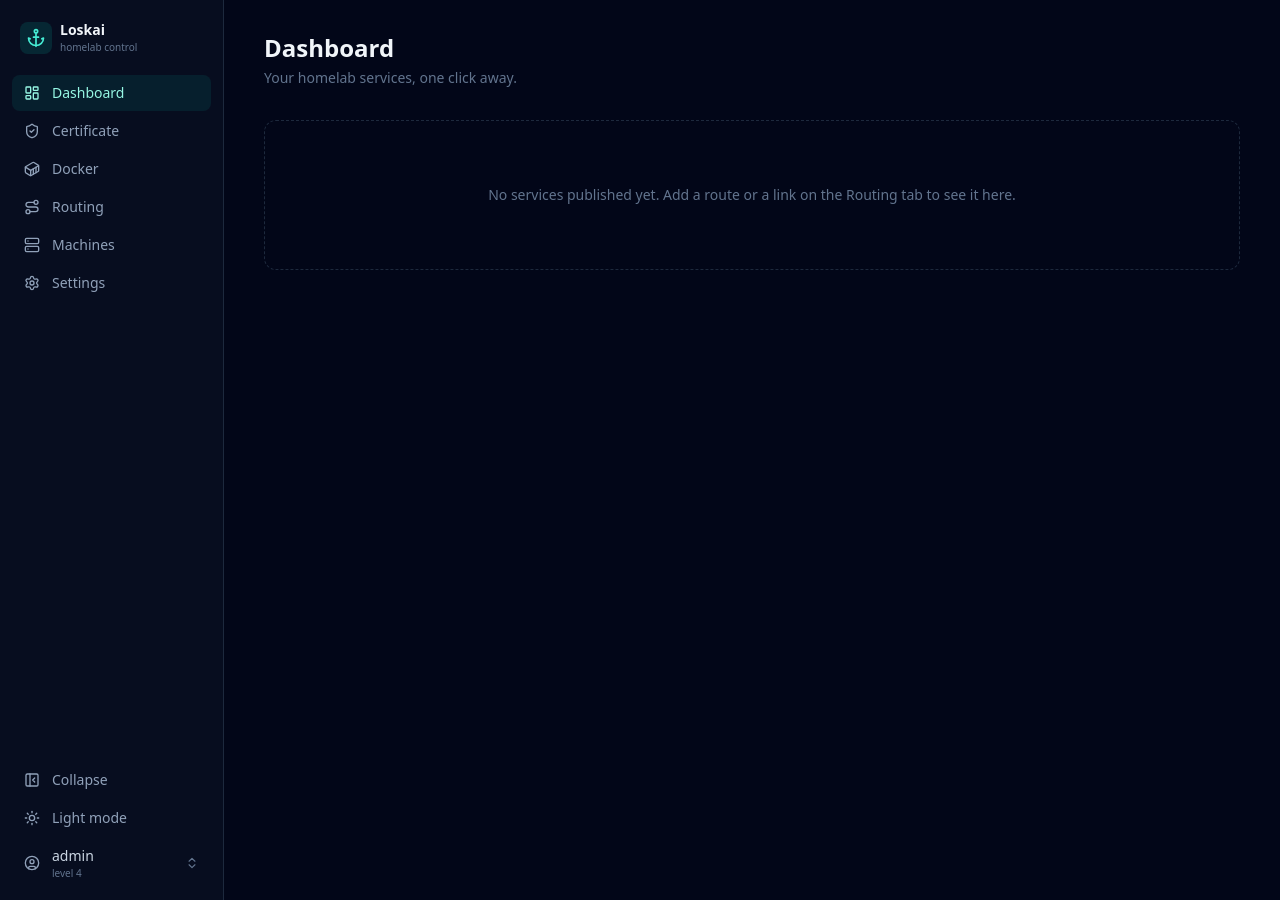
Scenario: the sidebar collapses to its icons, and stays so
Later steps or results of the test are not shown.
Expected: the text "admin" is shown, [52,846,94,865]
Expected: the text "Routing" is shown, [52,197,104,216]
Click the button with aria-label "Collapse the sidebar" at point(112, 780), box [12,762,211,798]
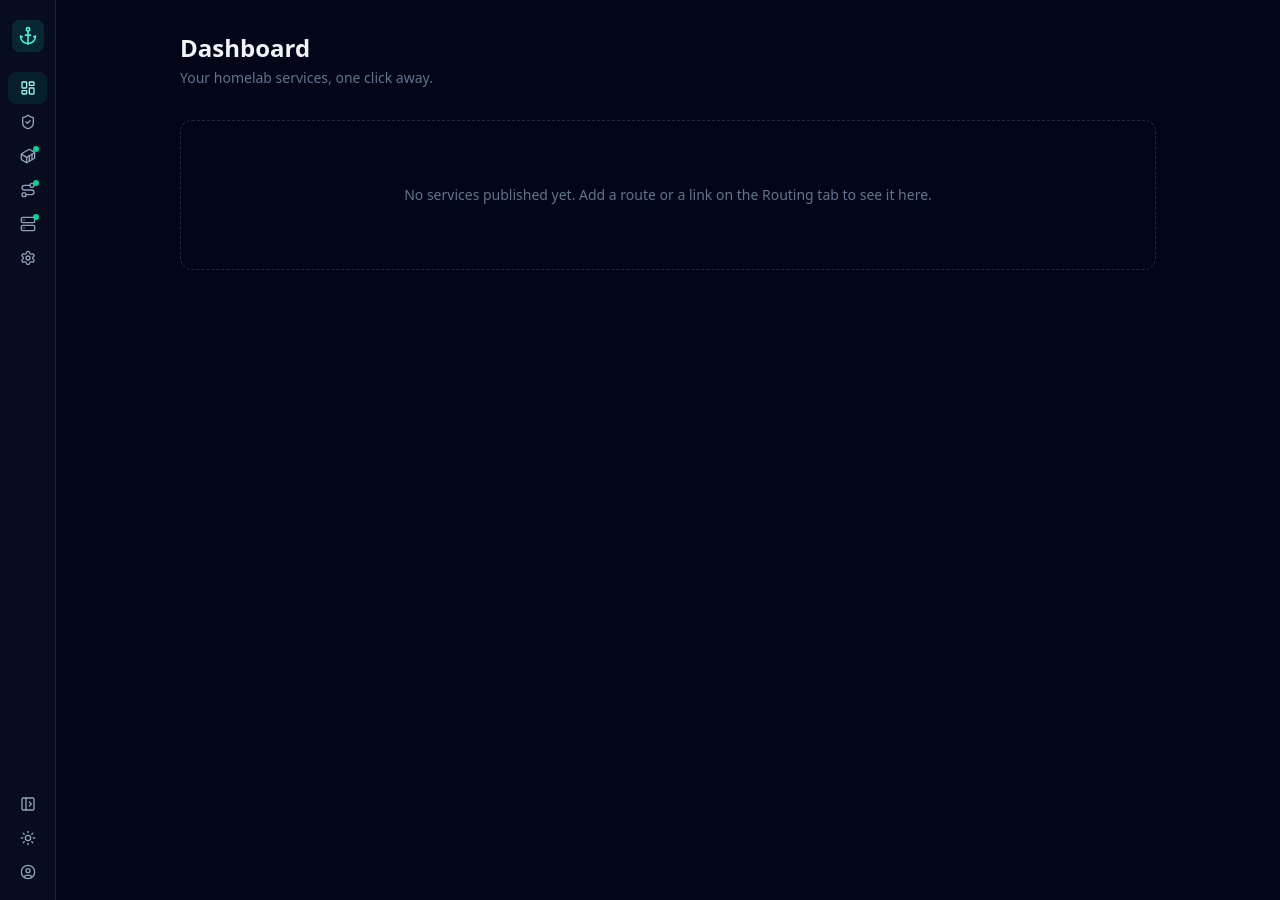
Expected: the text "homelab control" is gone
Expected: the text "admin" is gone
Click the button titled "Your account" at point(28, 872), box [8,856,47,888]
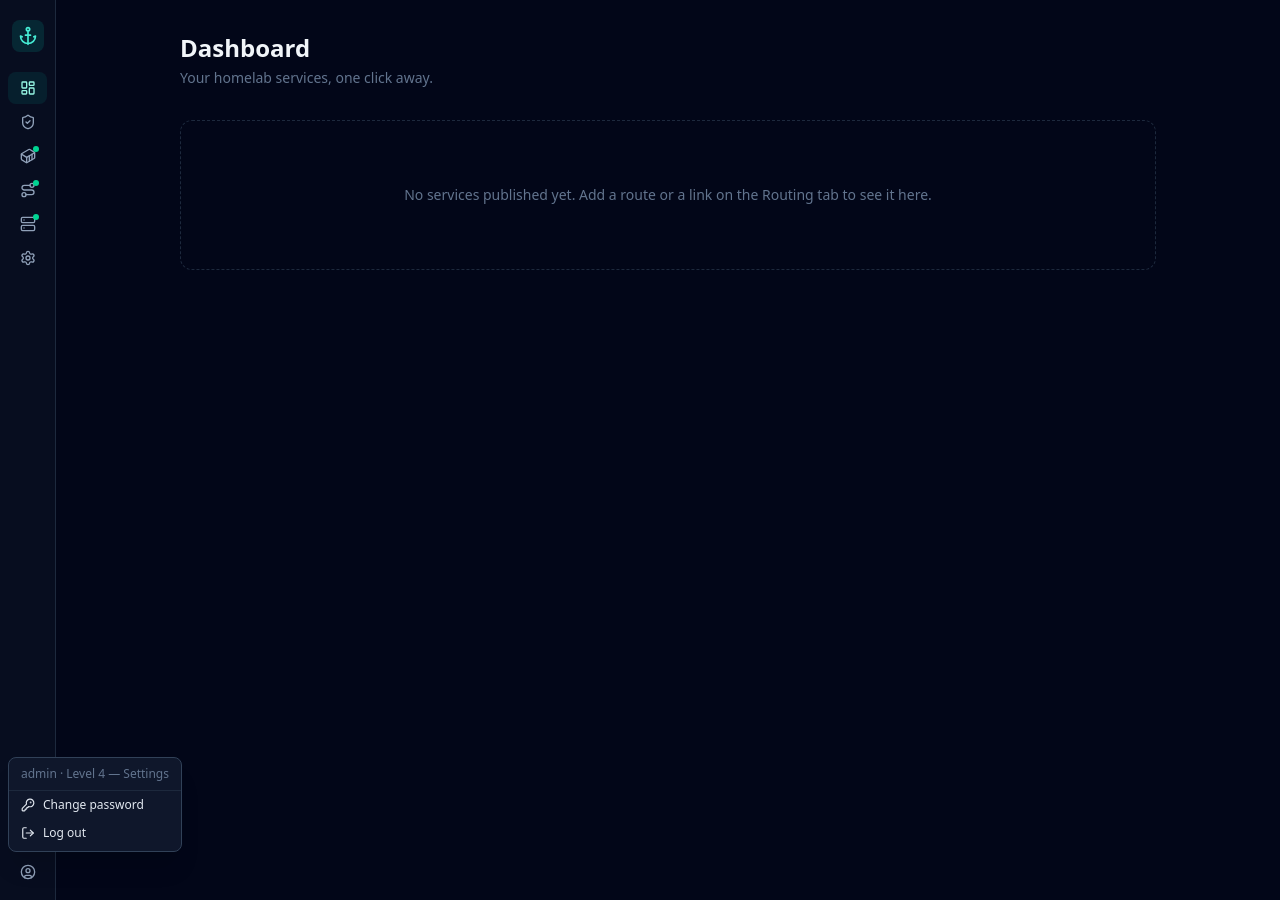
Expected: the text "admin · Level 4 — Settings" is shown, [9,762,181,791]
